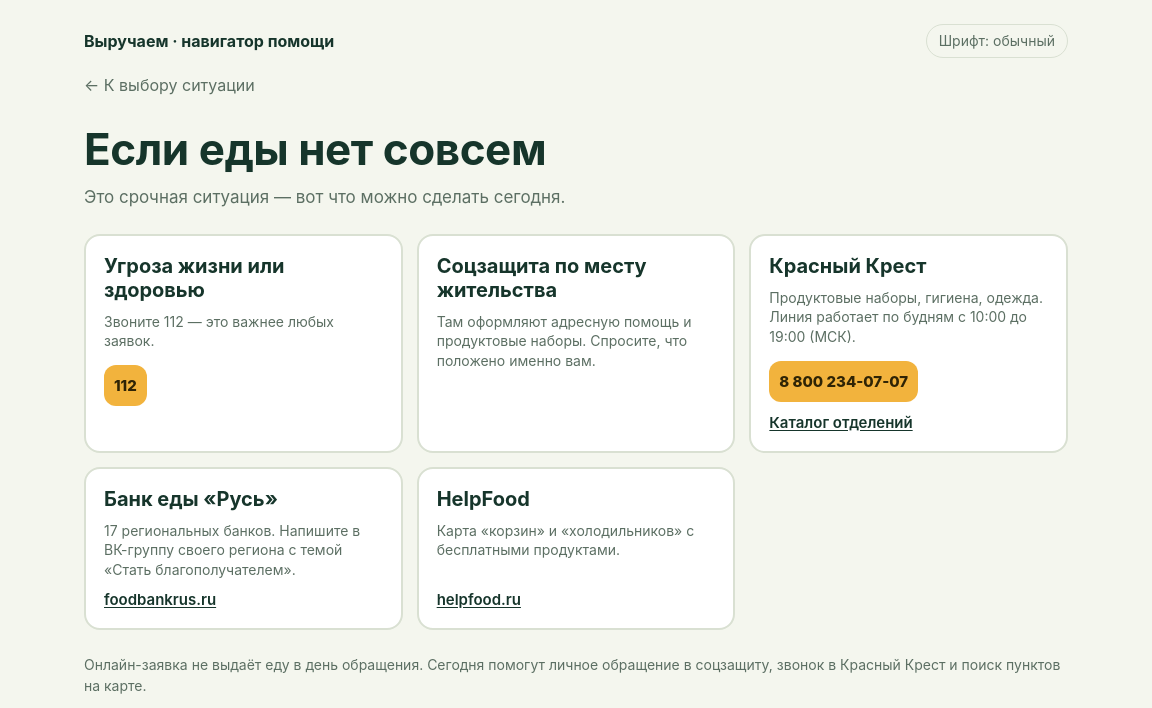
Test: приложение › на #/urgent есть кнопка возврата к выбору ситуации
Expected: the heading "Если еды нет совсем" is shown, x1=84 y1=122 x2=546 y2=176
Step 1. Click the button "← К выбору ситуации" → coordinates (169, 86), box x1=84 y1=66 x2=255 y2=105
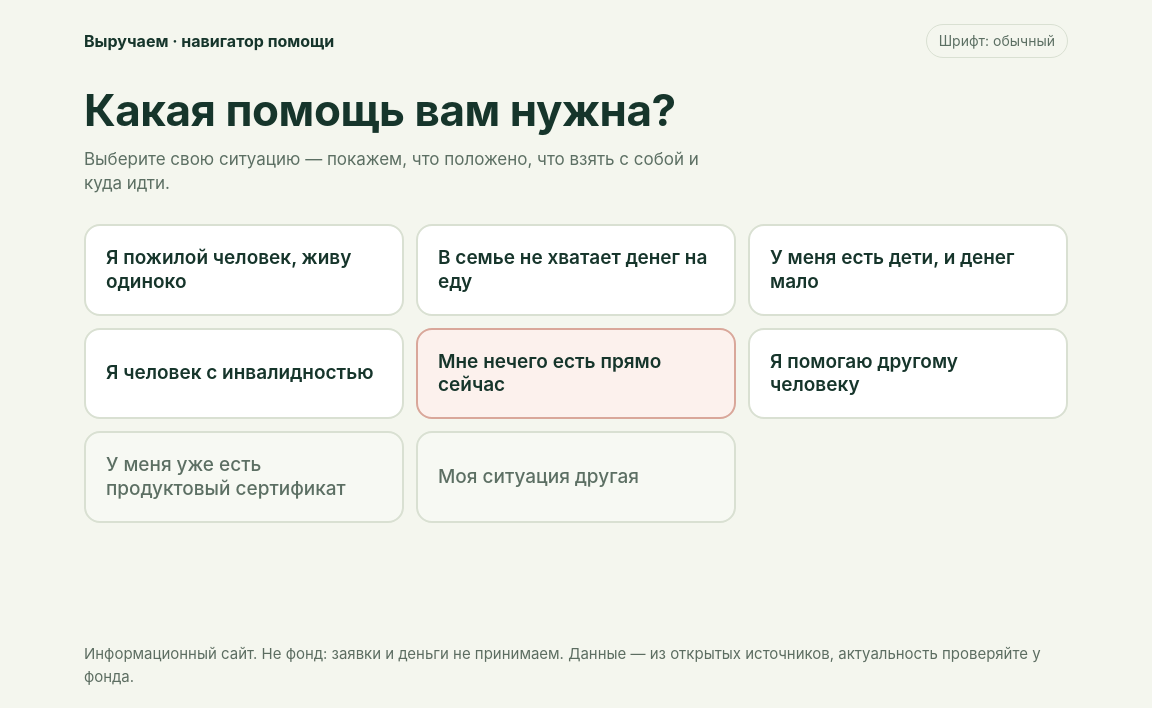
Expected: the heading "Какая помощь вам нужна?" is shown, x1=84 y1=83 x2=676 y2=137
